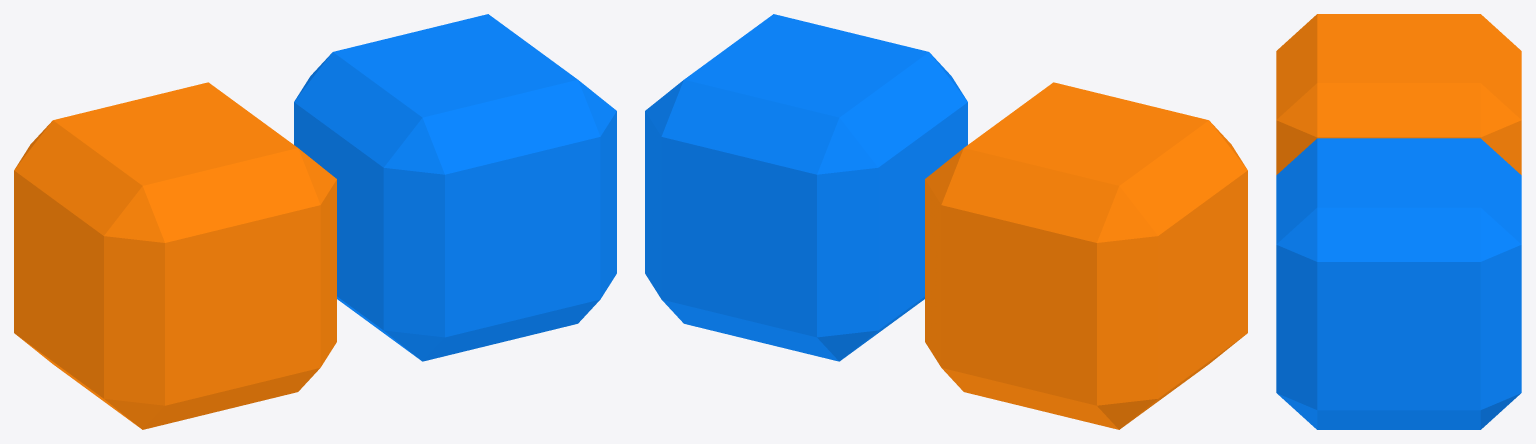
The model's file is UnlitTestLOD.glb.
3 renders of one model, left to right at view 1: azimuth 30°, elevation 25°; view 2: azimuth 150°, elevation 25°; view 3: azimuth 270°, elevation 25°, orthographic. The views are drawn at different scales.
Parts seen in each view (by area): view 1: Orange Object, Blue Object; view 2: Orange Object, Blue Object; view 3: Blue Object, Orange Object.
Boxes of the visible parts, left/top/right/bottom form: Orange Object: left=14, top=82, right=336, bottom=429; Blue Object: left=294, top=14, right=616, bottom=361; Orange Object: left=925, top=82, right=1247, bottom=429; Blue Object: left=645, top=14, right=967, bottom=361; Blue Object: left=1276, top=138, right=1521, bottom=429; Orange Object: left=1276, top=14, right=1521, bottom=174.
Bounding box in the file's own units: 4.4 × 2 × 2.
